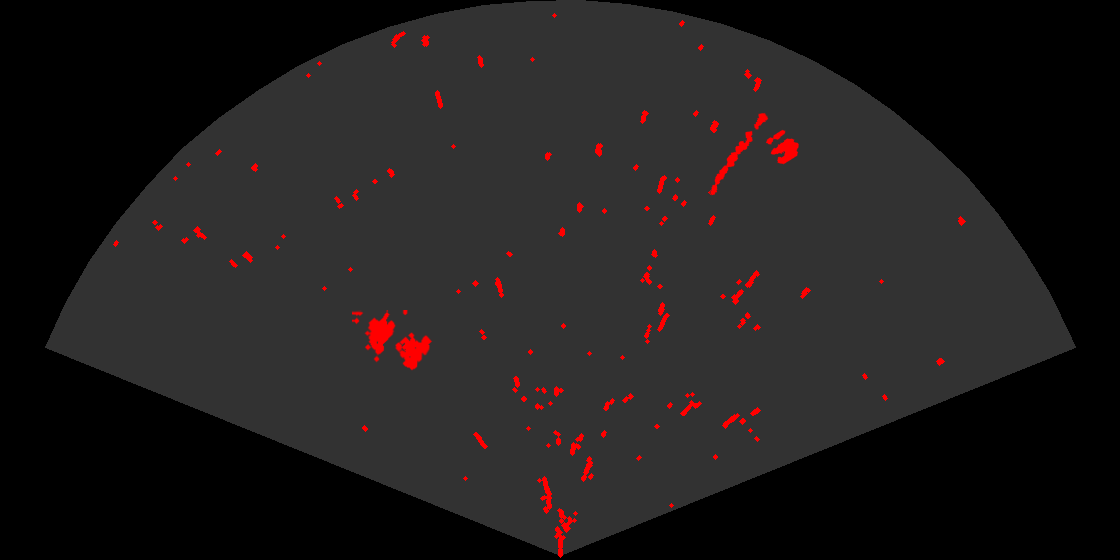ball: (764, 128, 800, 166)
cage: (352, 310, 434, 372)
chain: (709, 111, 770, 197)
